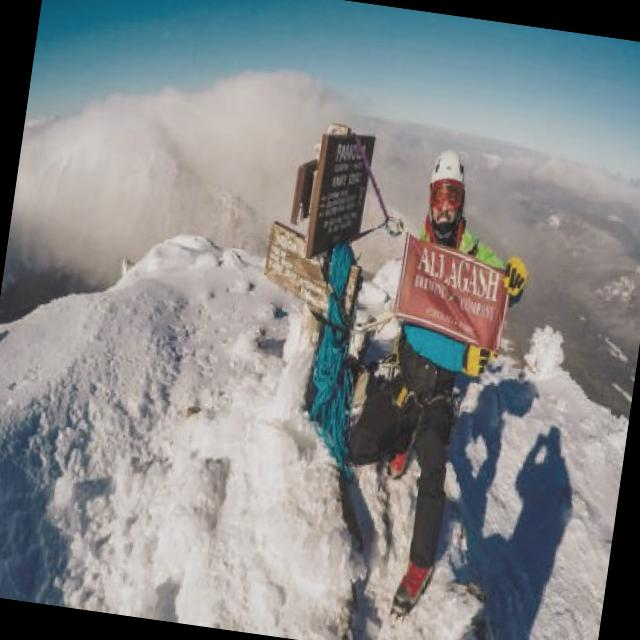Person: (325, 144, 544, 629)
